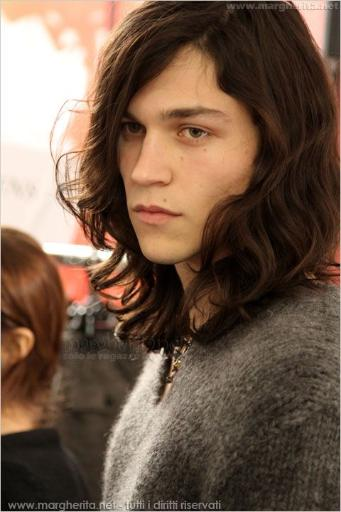left_eye: (176, 124, 219, 145)
left_lip_corner: (174, 210, 188, 221)
right_eye: (123, 122, 146, 138)
right_lip_corner: (129, 206, 141, 216)
